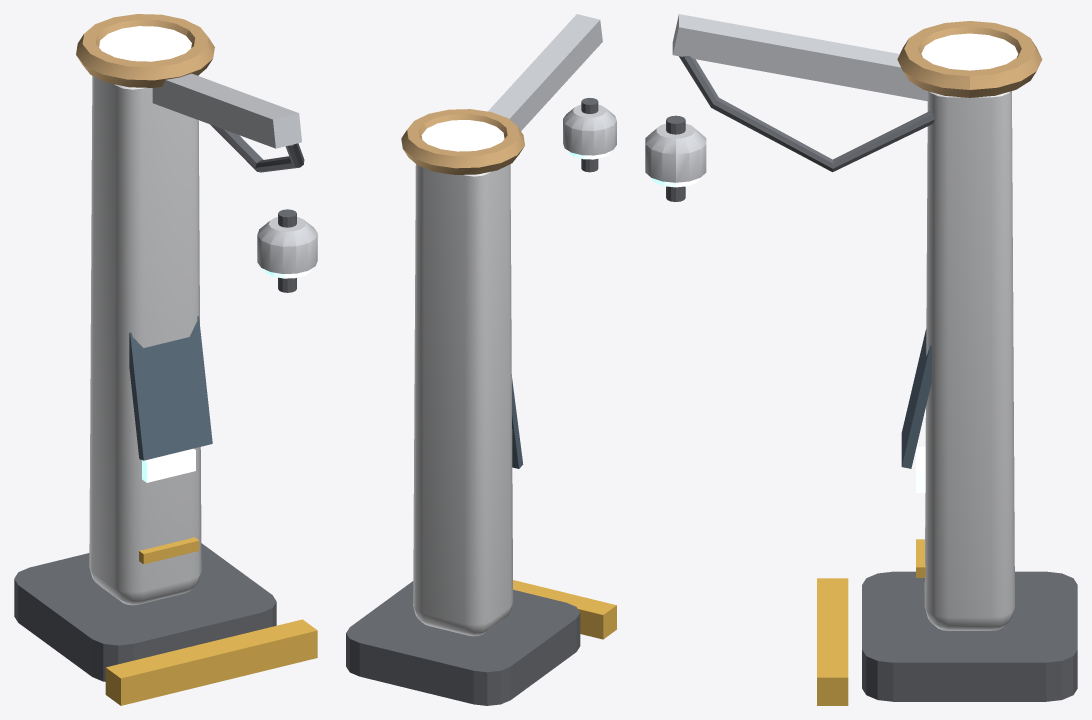
The model's file is hover-transit-and-antigrav-fleet-charging-pylon-f886ef2b__17114.glb.
3 views of the same model, side by side, from view 1: azimuth 30°, elevation 25°; view 2: azimuth 150°, elevation 25°; view 3: azimuth 270°, elevation 25° (orthographic). The views are drawn at different scales.
Parts seen in each view (by area): view 1: charging-pylon; view 2: charging-pylon; view 3: charging-pylon.
Part boxes in pixels (x1=…): charging-pylon: x1=14, y1=14, x2=317, y2=705; charging-pylon: x1=346, y1=14, x2=616, y2=705; charging-pylon: x1=645, y1=14, x2=1077, y2=705.
Size of the model in its own units: 1.2 by 3.58 by 2.21.
